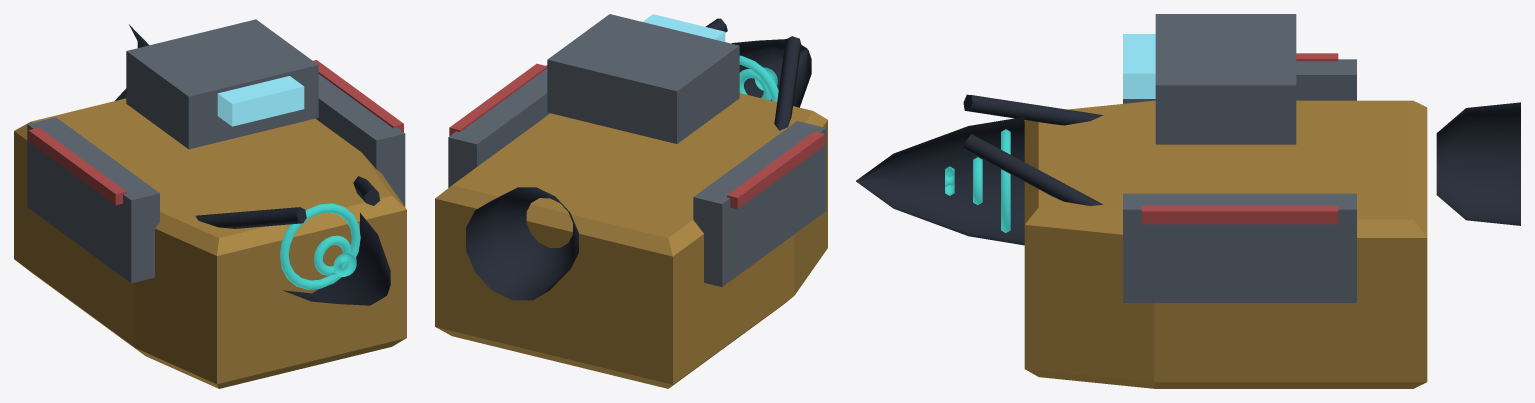
Rendered from miner.glb.
The picture shows the model from 3 angles, left to right: view 1: azimuth 30°, elevation 25°; view 2: azimuth 150°, elevation 25°; view 3: azimuth 270°, elevation 25°; orthographic projection. The views are drawn at different scales.
Parts seen in each view (by area): view 1: miner; view 2: miner; view 3: miner.
Part boxes in pixels (x1=…): miner: x1=14, y1=19, x2=406, y2=388; miner: x1=435, y1=14, x2=827, y2=388; miner: x1=856, y1=14, x2=1520, y2=388.
Bounding box in the file's own units: 0.8 × 0.66 × 1.42.
